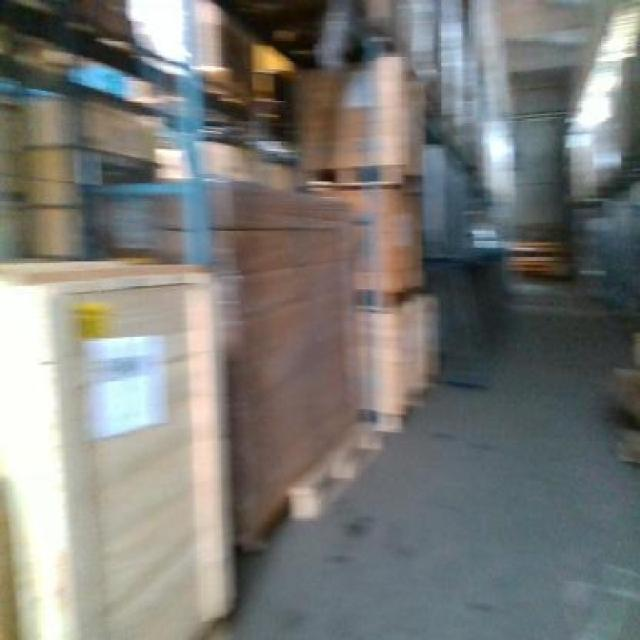pallets: (0, 260, 229, 637), (206, 178, 352, 546), (145, 197, 177, 246)
